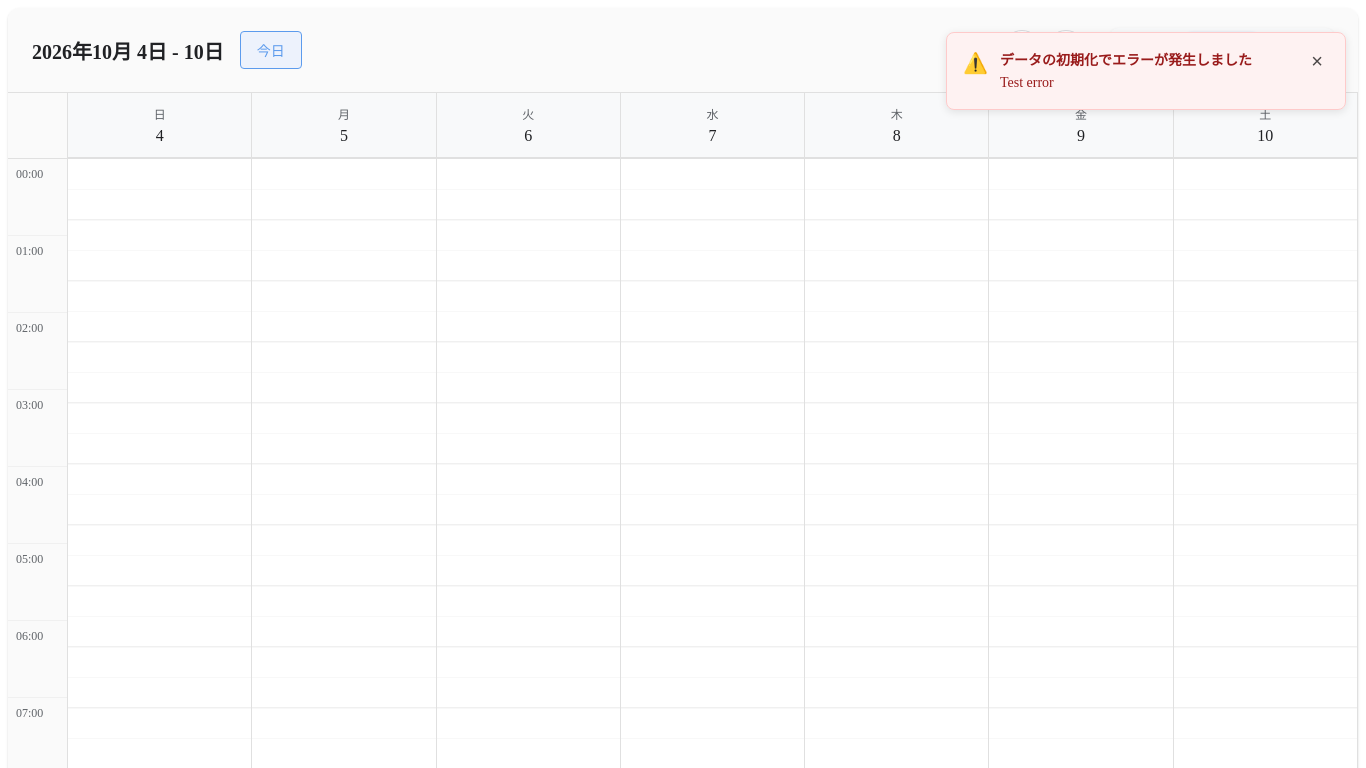
Test case: Complete Error Handling Integration › allows clearing error messages
expect the text "Test error" is shown: met, box [1000, 75, 1054, 90]
Find and click the close button
Step 1. Click the button named "閉じる" → {"x": 1317, "y": 61}, box [1305, 49, 1329, 73]
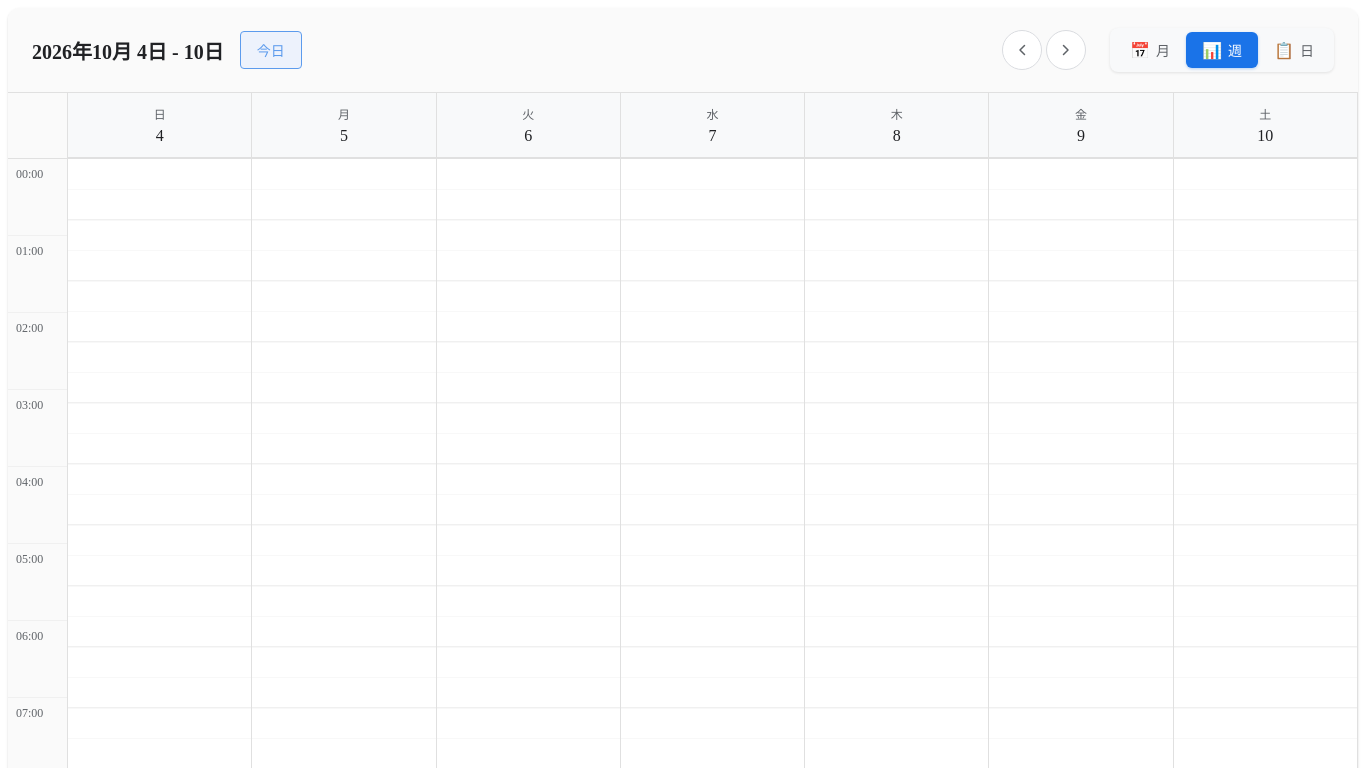
expect the text "Test error" is gone: met
